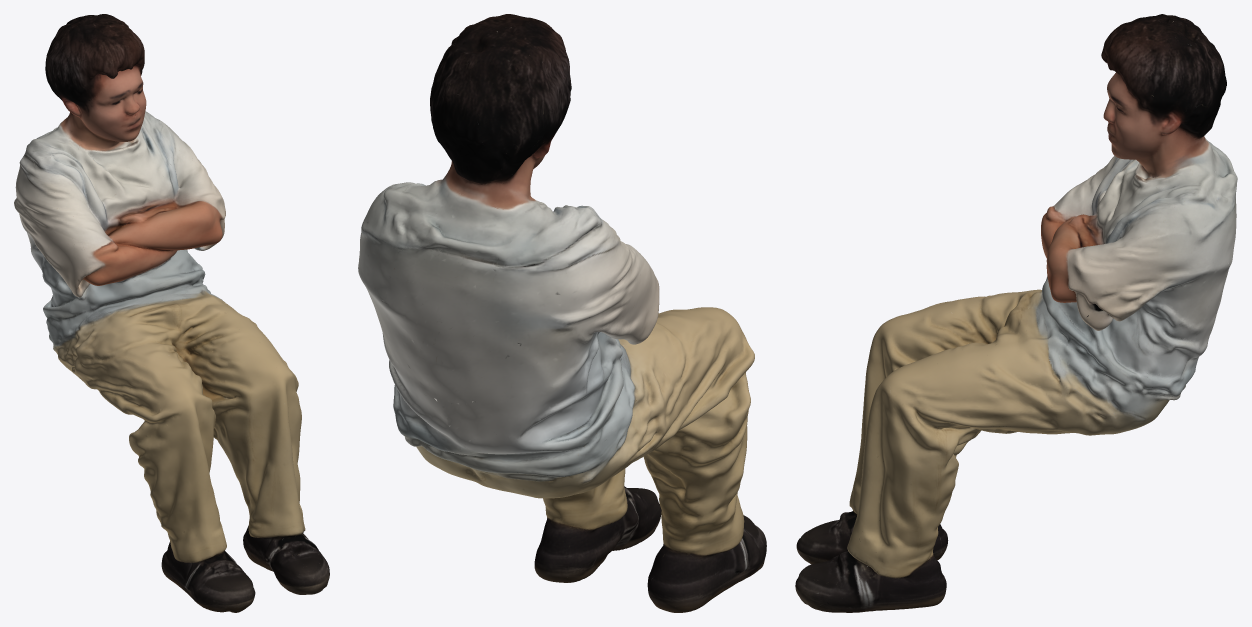
Rendered from uema_sitting.glb.
3 views of the same model, side by side, from view 1: azimuth 30°, elevation 25°; view 2: azimuth 150°, elevation 25°; view 3: azimuth 270°, elevation 25° (orthographic). The views are drawn at different scales.
Visible parts, largest first — view 1: world; view 2: world; view 3: world.
Boxes of the visible parts, x1,y1,x2,y2 form: world: [14, 14, 329, 612]; world: [358, 14, 766, 612]; world: [795, 14, 1237, 612].
Size of the model in its own units: 0.3887 by 1 by 0.7363.
Materials: 1 (1 with a texture image).
